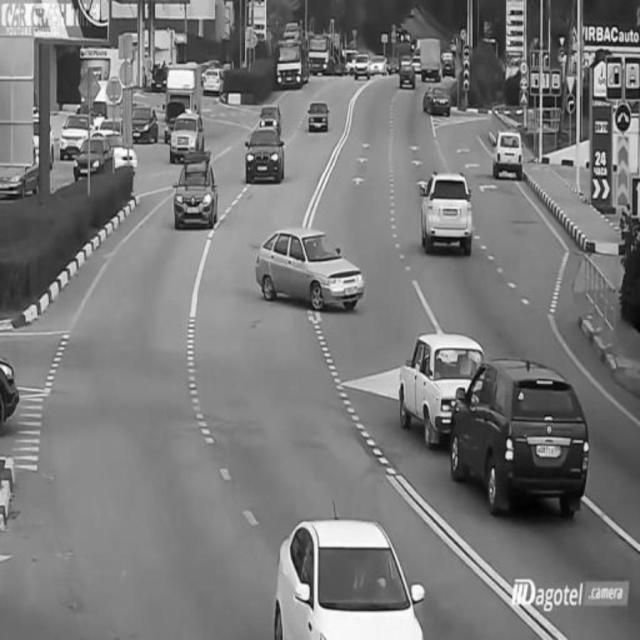vehicle: (446, 354, 590, 520), (264, 515, 430, 639), (257, 224, 370, 310), (393, 328, 484, 432), (420, 168, 477, 258), (173, 156, 221, 232), (165, 97, 207, 165), (244, 125, 288, 189), (0, 348, 26, 421), (276, 27, 308, 84), (73, 130, 109, 178), (130, 96, 160, 148), (492, 128, 522, 175), (417, 32, 445, 80), (423, 83, 457, 119), (60, 106, 82, 158), (305, 99, 332, 131), (396, 56, 416, 93), (202, 65, 226, 93), (354, 51, 374, 83)
